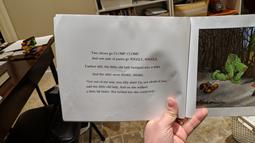text block: (81, 49, 171, 97)
